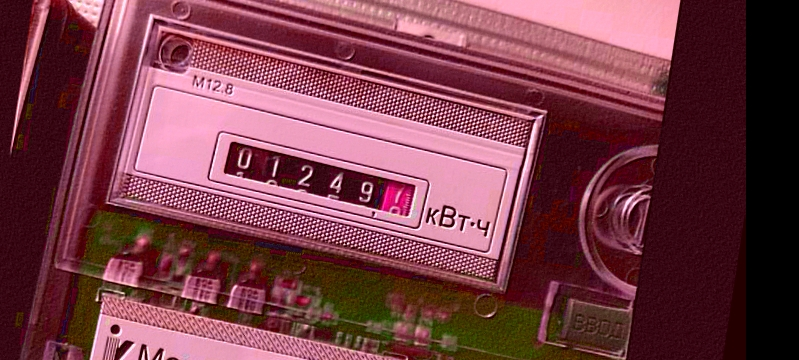0: (234, 144, 255, 172)
1: (266, 152, 283, 179)
2: (294, 162, 315, 190)
4: (327, 168, 347, 195)
7: (390, 179, 409, 207)
9: (355, 177, 376, 206)
screen: (203, 128, 435, 234)
